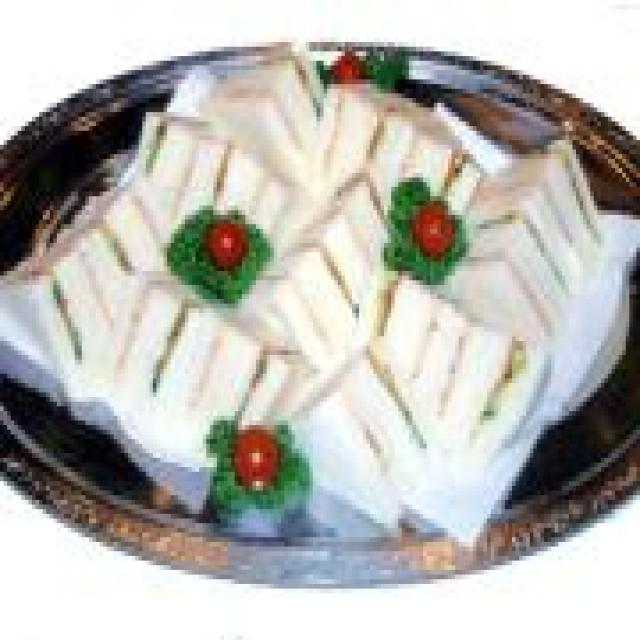三明治: (0, 51, 640, 514)
